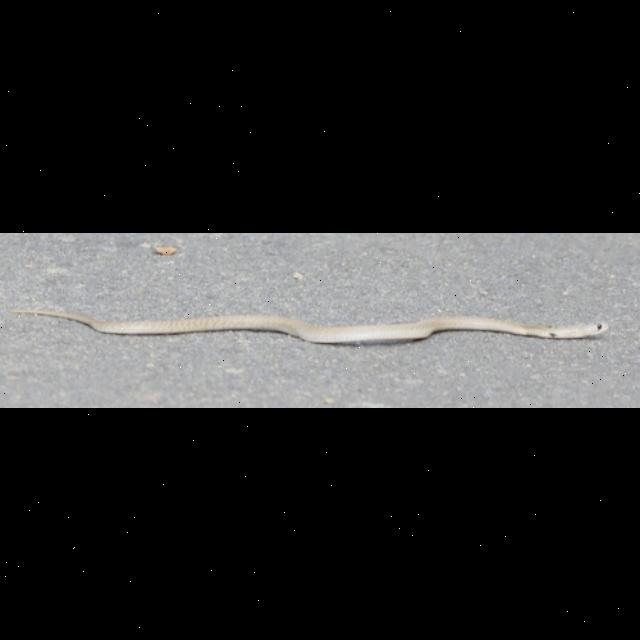snake: (7, 301, 613, 357)
